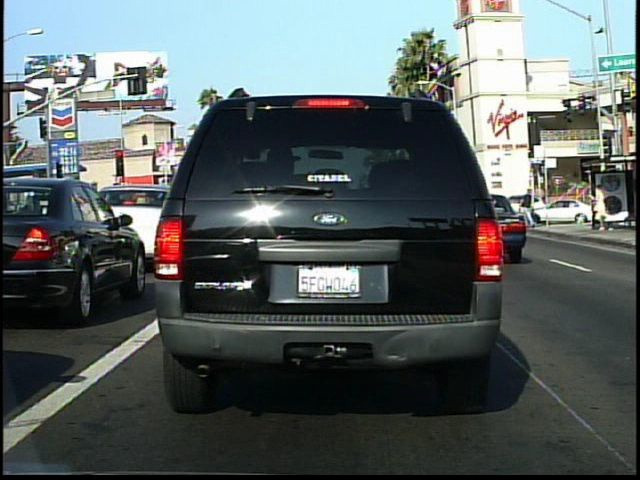person: (589, 178, 614, 235), (518, 185, 538, 230)
